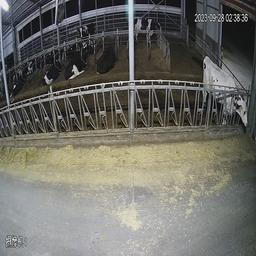cow: (197, 49, 251, 152), (65, 37, 94, 87), (93, 30, 121, 78), (134, 8, 165, 48), (42, 50, 64, 90), (7, 63, 24, 101), (27, 45, 39, 81), (79, 18, 97, 39)
